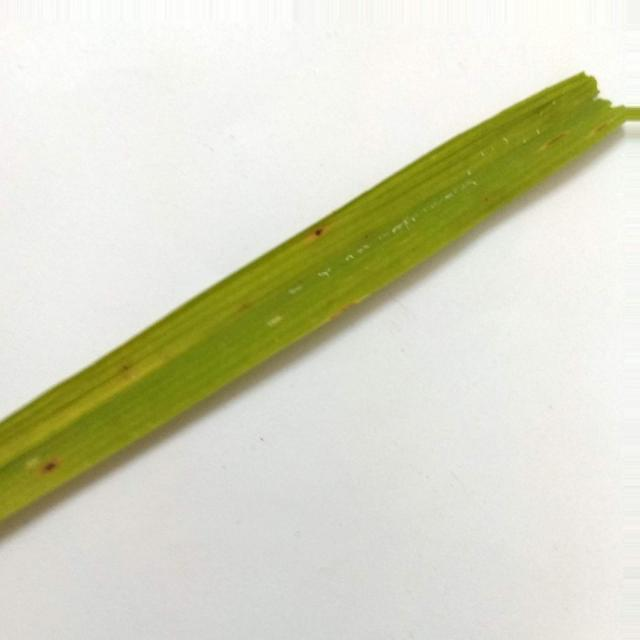Brown_Spot: (542, 130, 568, 149), (41, 459, 61, 474), (241, 300, 252, 311), (120, 361, 130, 369), (314, 229, 322, 236)
